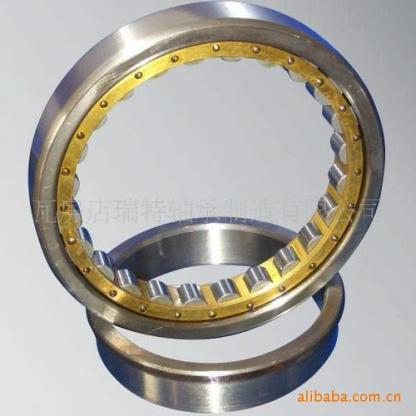FOD: (23, 1, 391, 413)
